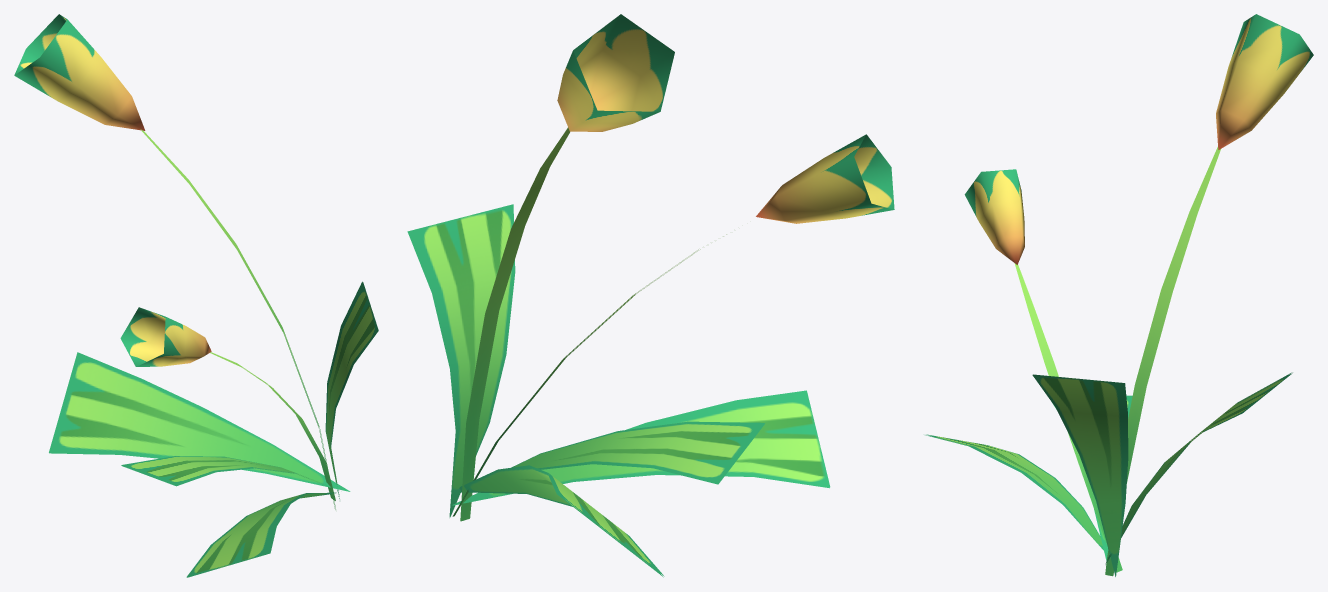
Rendered from Fbx_Tulip_03.fbx.
3 views of the same model, side by side, from view 1: azimuth 30°, elevation 25°; view 2: azimuth 150°, elevation 25°; view 3: azimuth 270°, elevation 25° (orthographic). The views are drawn at different scales.
Visible parts, largest first — view 1: Fbx_Tulip_03; view 2: Fbx_Tulip_03; view 3: Fbx_Tulip_03.
Part boxes in pixels (bbox=[...]): Fbx_Tulip_03: bbox=[14, 14, 378, 577]; Fbx_Tulip_03: bbox=[407, 14, 894, 577]; Fbx_Tulip_03: bbox=[925, 14, 1313, 576].
Size of the model in its own units: 81.34 by 126 by 95.33.
1 material, 1 textured.
